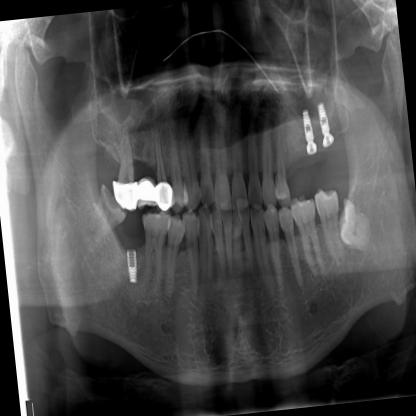Bicon: (122, 242, 139, 289), (316, 99, 331, 137), (302, 105, 314, 142)
